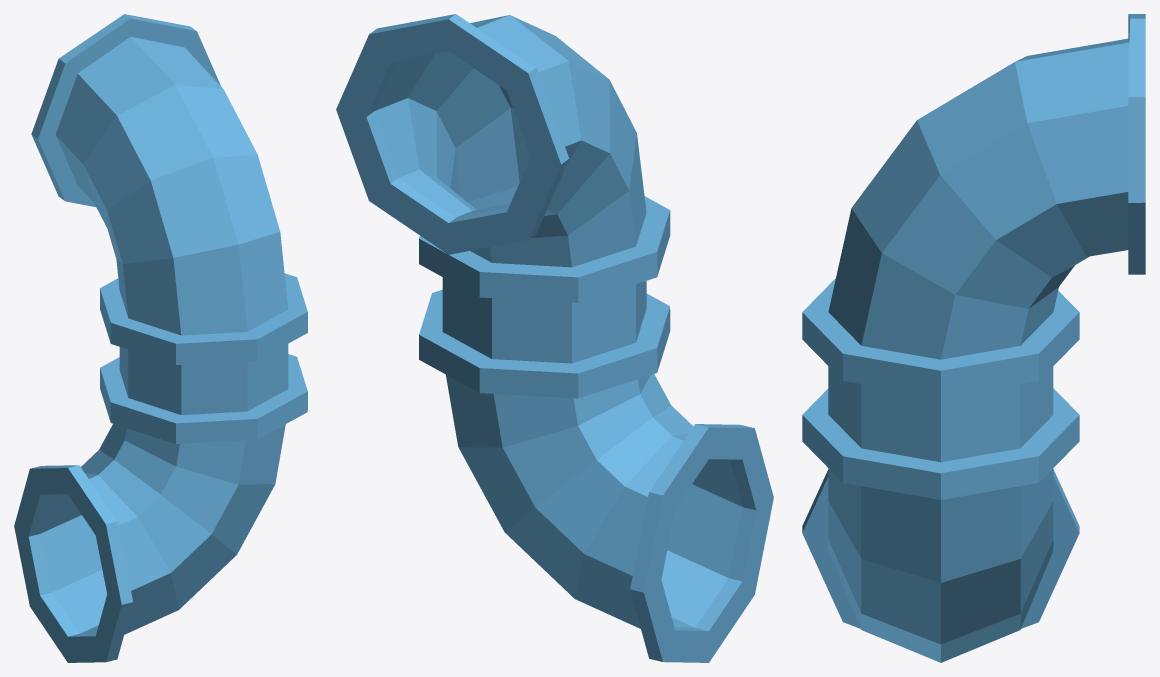
The model's file is steampunk_engine_pipe_only.fbx.
3 renders of one model, left to right at view 1: azimuth 30°, elevation 25°; view 2: azimuth 150°, elevation 25°; view 3: azimuth 270°, elevation 25°, orthographic. The views are drawn at different scales.
Parts seen in each view (by area): view 1: steampunk_engine_pipe_only; view 2: steampunk_engine_pipe_only; view 3: steampunk_engine_pipe_only.
Part boxes in pixels (x1,y1,x2,y2): steampunk_engine_pipe_only: (14,14,307,662); steampunk_engine_pipe_only: (336,14,773,662); steampunk_engine_pipe_only: (802,14,1145,662).
Bounding box in the file's own units: 30.3 × 70.47 × 30.52.
